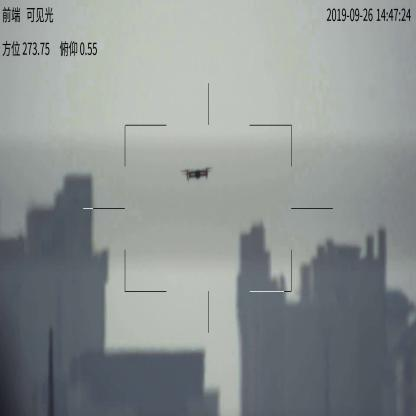uav: (181, 164, 211, 182)
